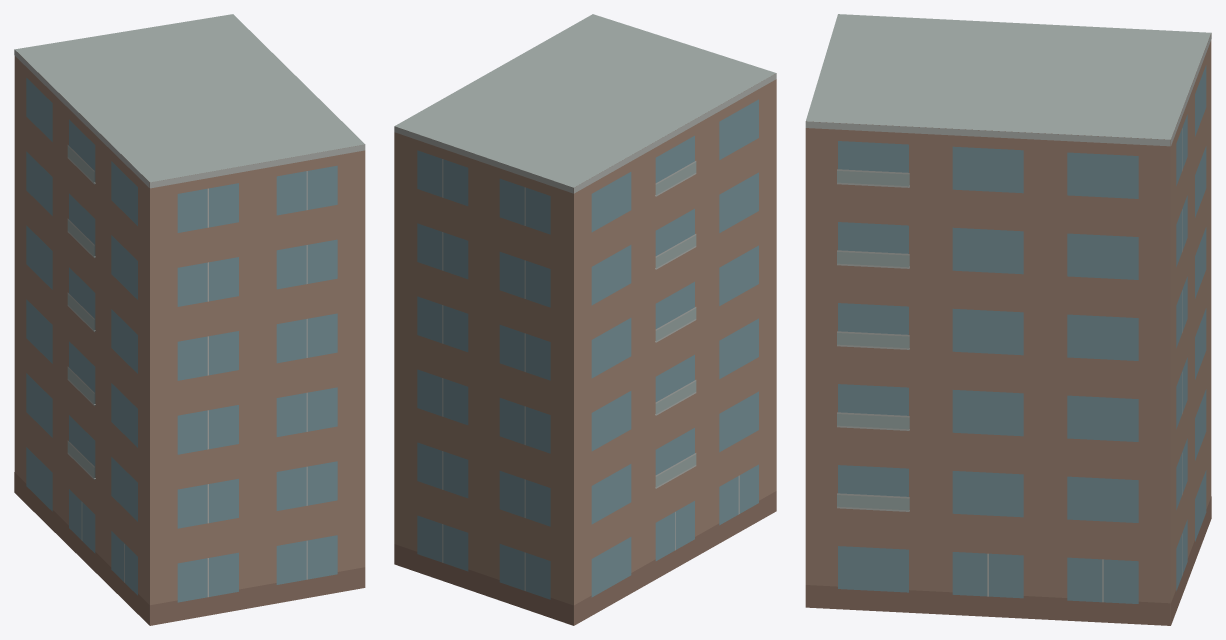
File: survey-upis-32669716.glb
3 renders of one model, left to right at view 1: azimuth 30°, elevation 25°; view 2: azimuth 150°, elevation 25°; view 3: azimuth 270°, elevation 25°, orthographic. The views are drawn at different scales.
Visible parts, largest first — view 1: survey-upis-32669716.tmp; view 2: survey-upis-32669716.tmp; view 3: survey-upis-32669716.tmp.
Part boxes in pixels (left/top/right/bottom): survey-upis-32669716.tmp: left=14, top=14, right=365, bottom=625; survey-upis-32669716.tmp: left=394, top=14, right=776, bottom=625; survey-upis-32669716.tmp: left=805, top=14, right=1211, bottom=625.
Size of the model in its own units: 9.94 by 17.9 by 13.55.
